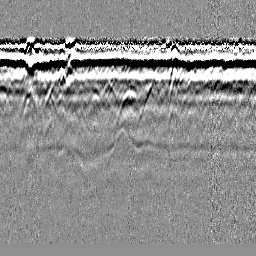cavity: (115, 87, 141, 124)
